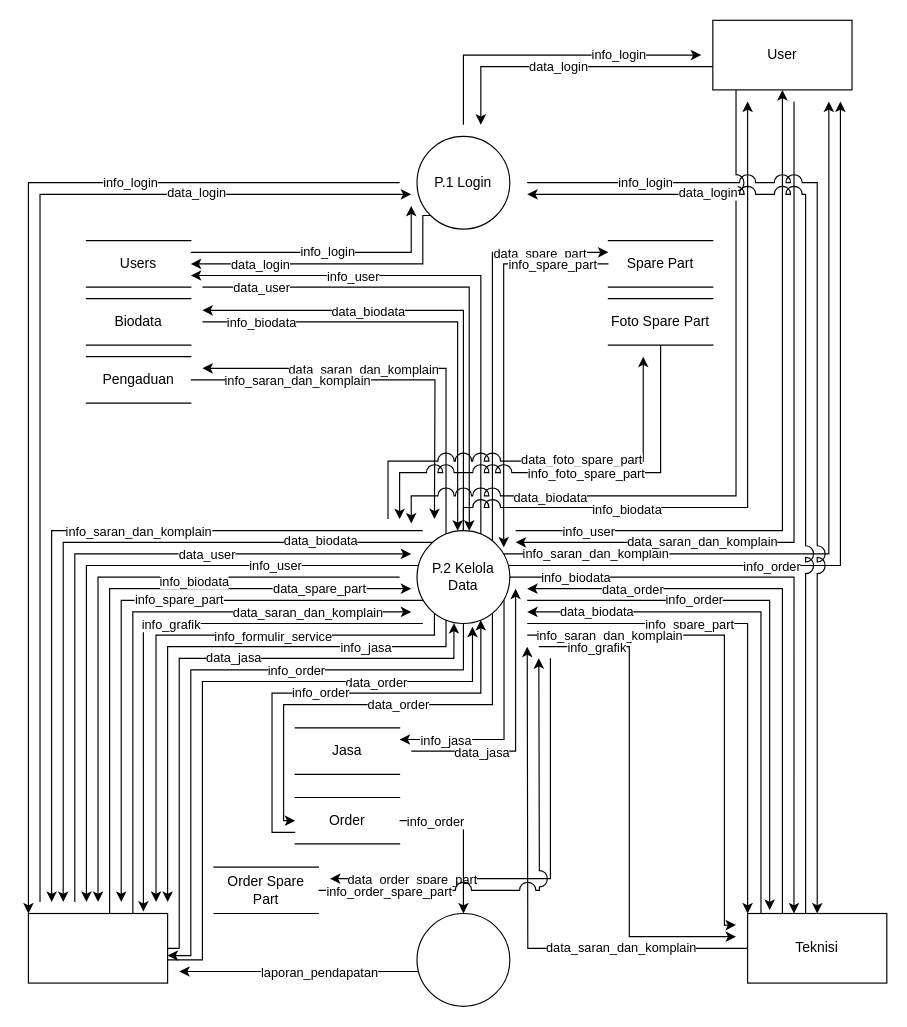
Some shapes in this 907 by 1027 pixel diagram are drawn without their labels. Here are the shapes that lost their labels. From the top down, the box of each, then its label:
(27, 912, 168, 983): Admin
(416, 912, 510, 1006): P.2 Cetak Laporan
